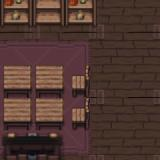Hide: (0, 131, 65, 160)
Obstacle: (0, 65, 32, 98), (0, 98, 32, 131), (65, 0, 97, 32), (0, 0, 33, 31), (33, 65, 64, 98), (33, 98, 64, 131), (33, 0, 65, 31), (65, 65, 92, 98), (65, 98, 92, 131)
